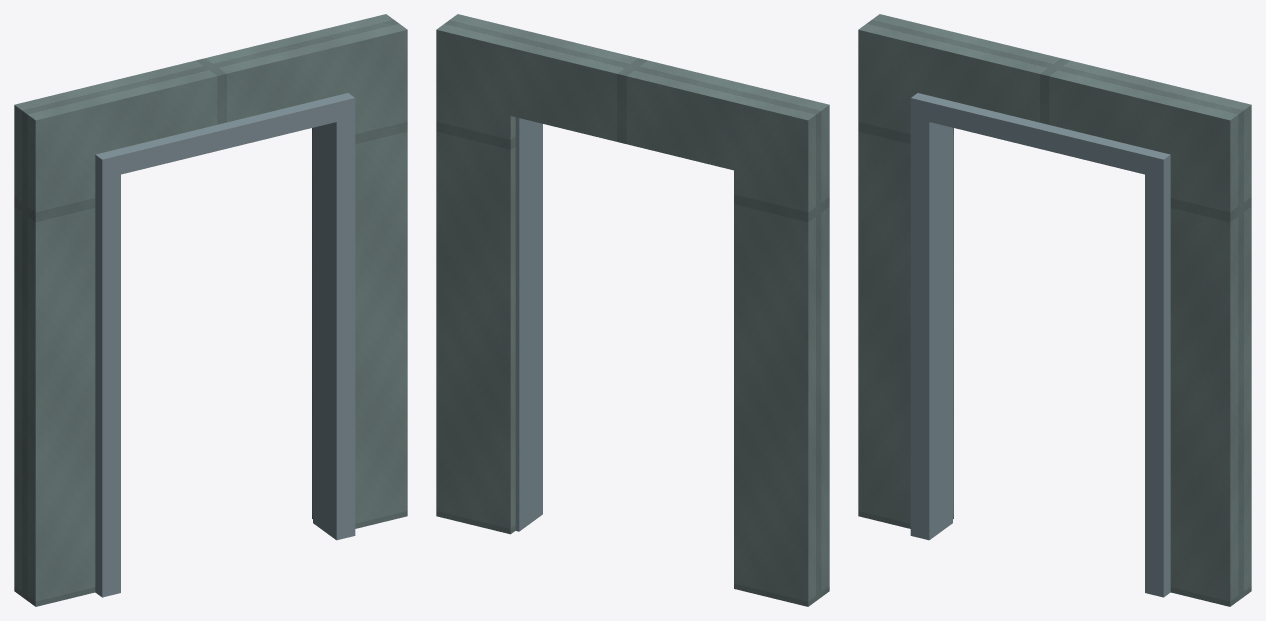
Rendered from Hab_Wall_Door_Low_2p5m.glb.
3 renders of one model, left to right at view 1: azimuth 30°, elevation 25°; view 2: azimuth 150°, elevation 25°; view 3: azimuth 330°, elevation 25°, orthographic.
Visible parts, largest first — view 1: Hab_Wall_Door_Low_2p5m; view 2: Hab_Wall_Door_Low_2p5m; view 3: Hab_Wall_Door_Low_2p5m.
Boxes of the visible parts, <box> form: Hab_Wall_Door_Low_2p5m: <box>14,14,407,606</box>; Hab_Wall_Door_Low_2p5m: <box>436,14,829,606</box>; Hab_Wall_Door_Low_2p5m: <box>858,14,1251,606</box>.
Size of the model in its own units: 2 by 2.5 by 0.265.
Materials: 2 (1 with a texture image).
